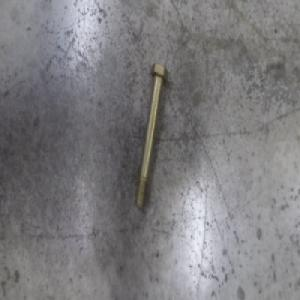Bolt: (134, 62, 169, 210)
